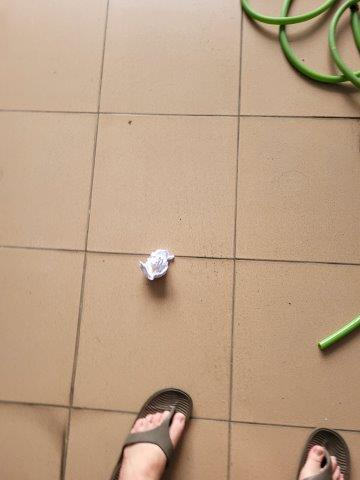kertas: (137, 250, 177, 284)
